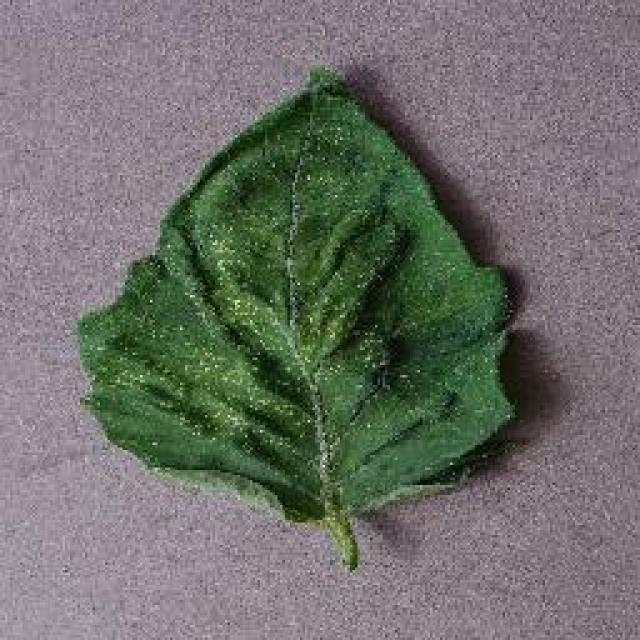Tomato mosaic virus leaf: (69, 69, 519, 521)
